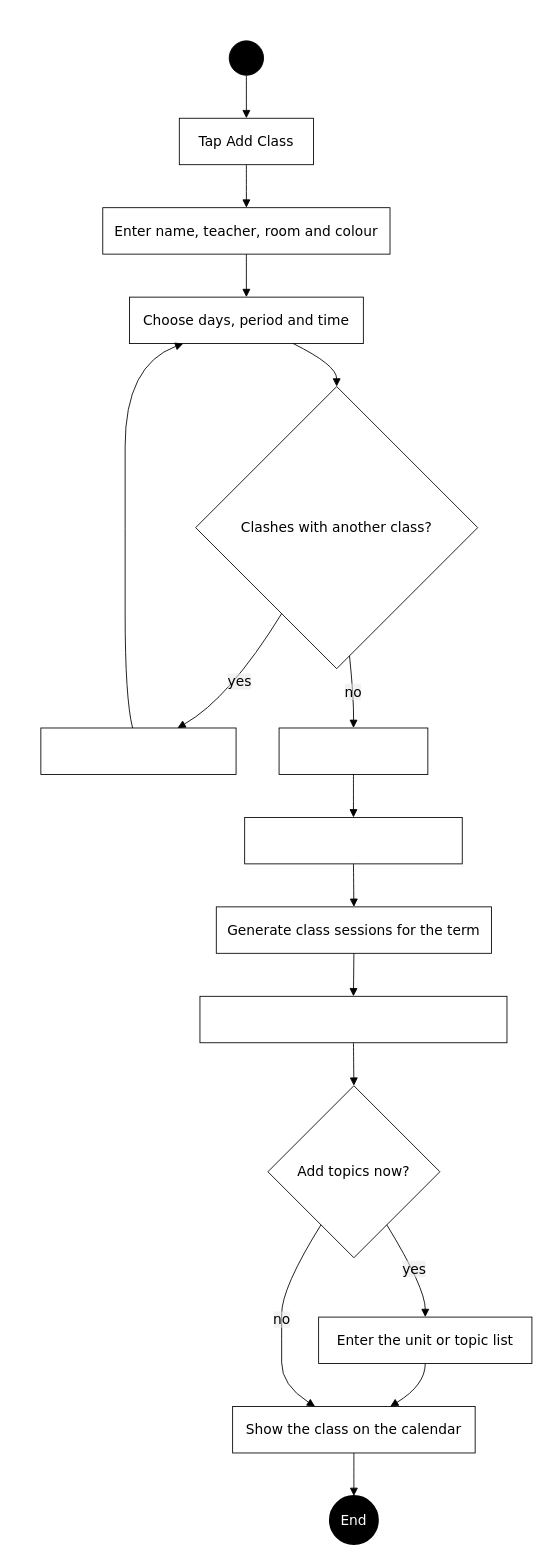
The diagram is 547 pixels wide and 1559 high, and some of its shapes have lost their labels. Each missing label, with the centre of its shape:
"Create the recurrence rule" goes at [353,840].
"Save the course" goes at [353,750].
"Seed keywords from the subject and title" goes at [353,1019].
"Show the clashing class" goes at [138,750].
